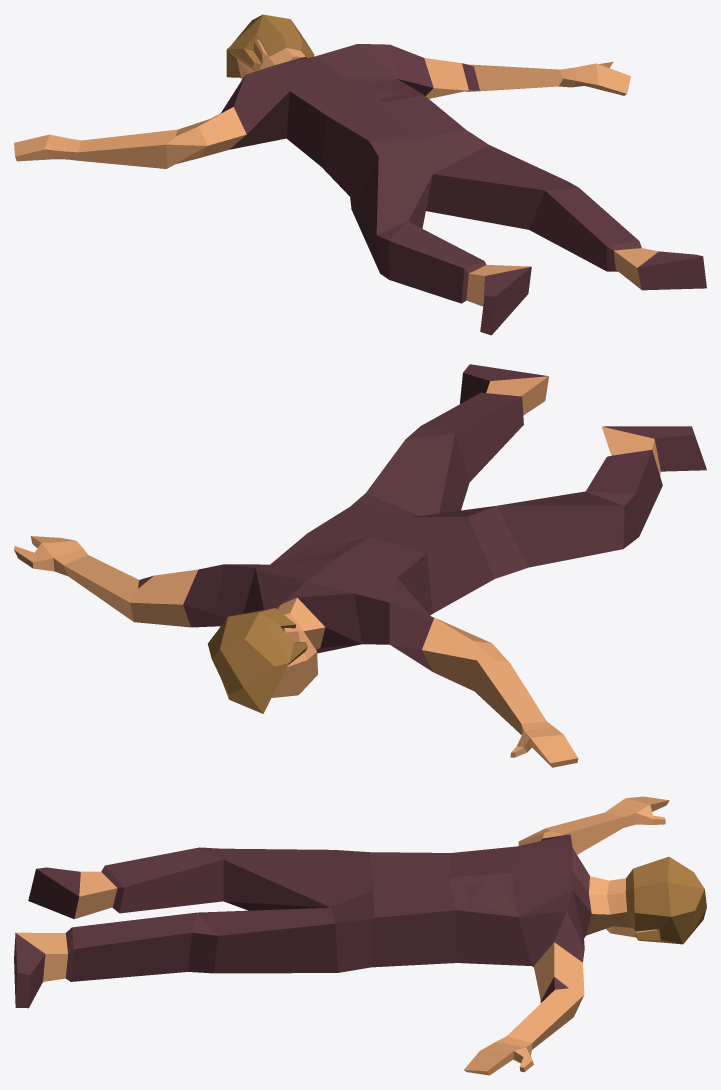
Rendered from man-shirt-dead-b.fbx.
3 renders of one model, top to bottom at view 1: azimuth 30°, elevation 25°; view 2: azimuth 150°, elevation 25°; view 3: azimuth 270°, elevation 25°, orthographic. The views are drawn at different scales.
Visible parts, largest first — view 1: man-shirt-dead-b; view 2: man-shirt-dead-b; view 3: man-shirt-dead-b.
Part boxes in pixels (bbox=[...]): man-shirt-dead-b: bbox=[14, 14, 706, 335]; man-shirt-dead-b: bbox=[14, 364, 706, 767]; man-shirt-dead-b: bbox=[14, 796, 706, 1075].
Bounding box in the file's own units: 1.73 × 0.2524 × 1.82.
